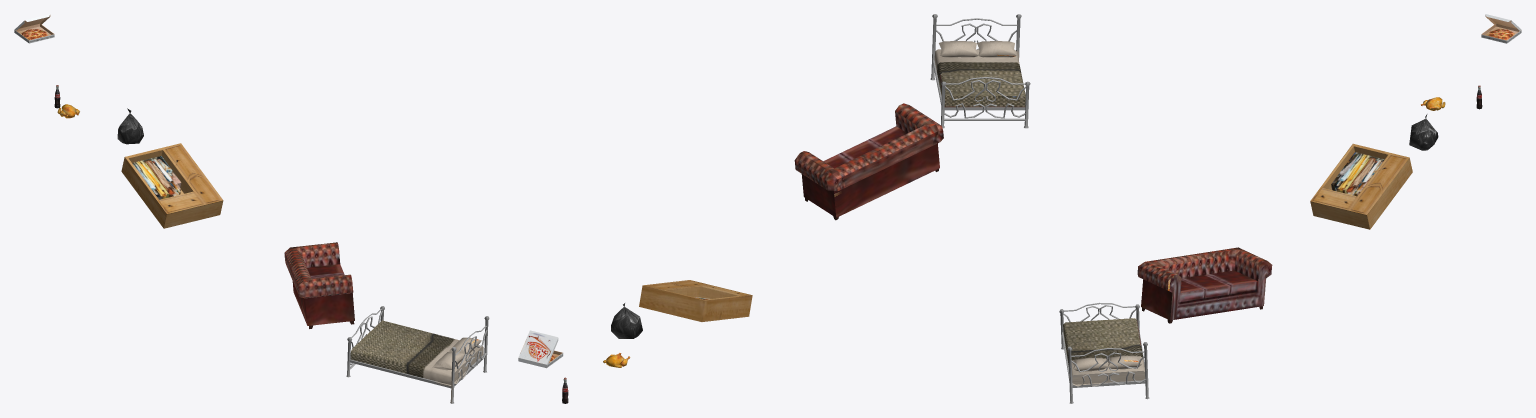
File: level1.obj
3 views of the same model, side by side, from view 1: azimuth 30°, elevation 25°; view 2: azimuth 150°, elevation 25°; view 3: azimuth 330°, elevation 25° (orthographic). The views are drawn at different scales.
Parts seen in each view (by area): view 1: bed_02.001, Wardrobe.001, Armchair_04.001, Box_Pizza.002, Garbage_bags.001; view 2: Armchair_04.001, bed_02.001, Wardrobe.001, Box_Pizza.002, Garbage_bags.001; view 3: Armchair_04.001, bed_02.001, Wardrobe.001, Box_Pizza.002, Garbage_bags.001.
Part boxes in pixels (bbox=[...]): bed_02.001: bbox=[346, 306, 489, 403]; Wardrobe.001: bbox=[121, 143, 223, 228]; Armchair_04.001: bbox=[284, 242, 354, 328]; Box_Pizza.002: bbox=[14, 14, 54, 43]; Garbage_bags.001: bbox=[117, 108, 143, 144]; Armchair_04.001: bbox=[794, 103, 943, 220]; bed_02.001: bbox=[930, 14, 1030, 128]; Wardrobe.001: bbox=[639, 280, 752, 321]; Box_Pizza.002: bbox=[518, 330, 563, 368]; Garbage_bags.001: bbox=[611, 303, 642, 338]; Armchair_04.001: bbox=[1137, 247, 1272, 323]; bed_02.001: bbox=[1059, 302, 1149, 403]; Wardrobe.001: bbox=[1310, 143, 1412, 229]; Box_Pizza.002: bbox=[1481, 14, 1521, 43]; Garbage_bags.001: bbox=[1409, 114, 1438, 150].
Size of the model in its own units: 2.84 by 2.16 by 18.58.
Materials: 7 (7 with a texture image).
